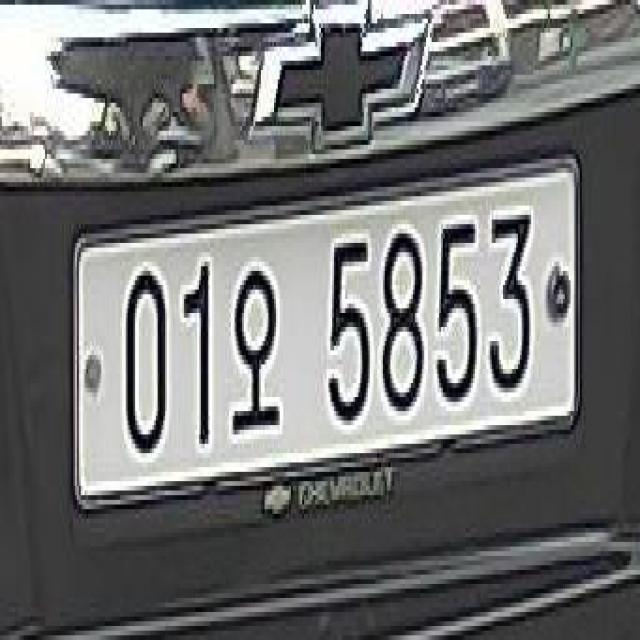illegal_plate: (72, 154, 588, 537)
